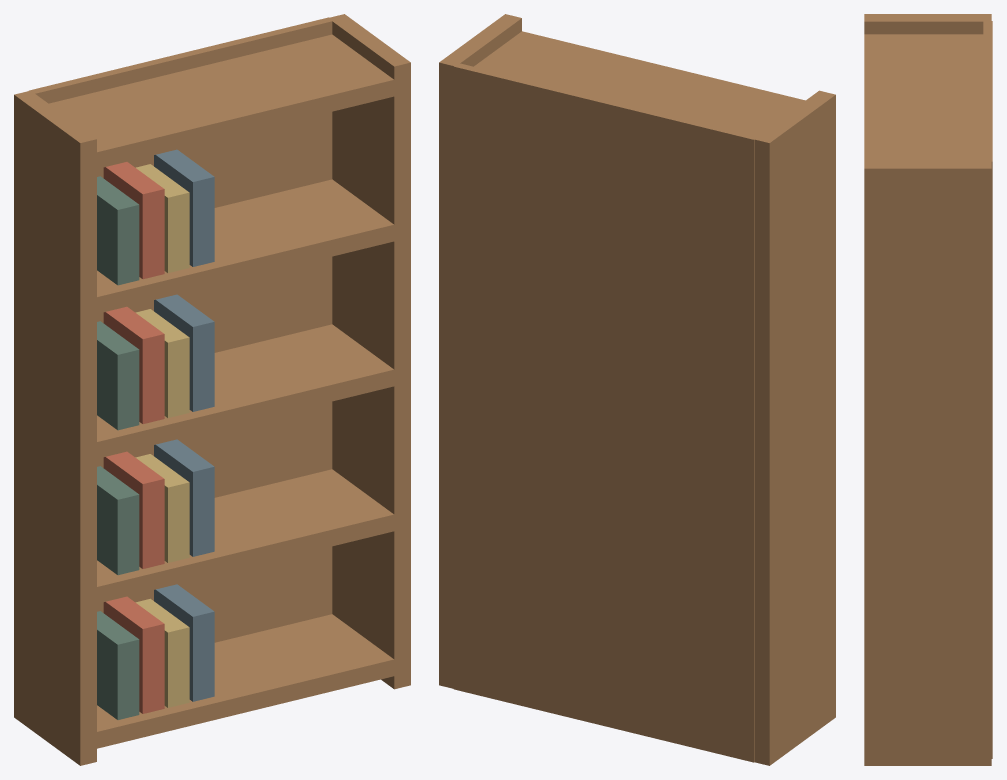
The model's file is shelf.glb.
3 views of the same model, side by side, from view 1: azimuth 30°, elevation 25°; view 2: azimuth 150°, elevation 25°; view 3: azimuth 270°, elevation 25° (orthographic). The views are drawn at different scales.
Visible parts, largest first — view 1: 侧板, 背板, 侧板.001, 第 5 层隔板, 第 3 层隔板, 第 4 层隔板, 第 1 层隔板, 第 2 层隔板, 书籍.004, 书籍.008, 书籍, 书籍.012 (+12 smaller); view 2: 背板, 侧板, 第 5 层隔板, 侧板.001; view 3: 侧板.001, 第 5 层隔板, 背板, 侧板.
Boxes of the visible parts, x1,y1,x2,y2 form: 侧板: [14, 90, 96, 765]; 背板: [29, 17, 332, 642]; 侧板.001: [328, 14, 410, 689]; 第 5 层隔板: [49, 34, 395, 168]; 第 3 层隔板: [95, 324, 395, 458]; 第 4 层隔板: [95, 179, 395, 314]; 第 1 层隔板: [95, 614, 395, 748]; 第 2 层隔板: [95, 469, 395, 603]; 书籍.004: [97, 466, 139, 575]; 书籍.008: [97, 321, 139, 430]; 书籍: [97, 611, 139, 719]; 书籍.012: [97, 176, 139, 285]; 背板: [453, 63, 757, 762]; 侧板: [753, 90, 835, 765]; 第 5 层隔板: [474, 31, 805, 135]; 侧板.001: [439, 14, 521, 688]; 侧板.001: [864, 161, 991, 765]; 第 5 层隔板: [864, 34, 983, 160]; 背板: [983, 21, 992, 758]; 侧板: [864, 14, 991, 34].
Bounding box in the file's own units: 1 × 1.8 × 0.35.
